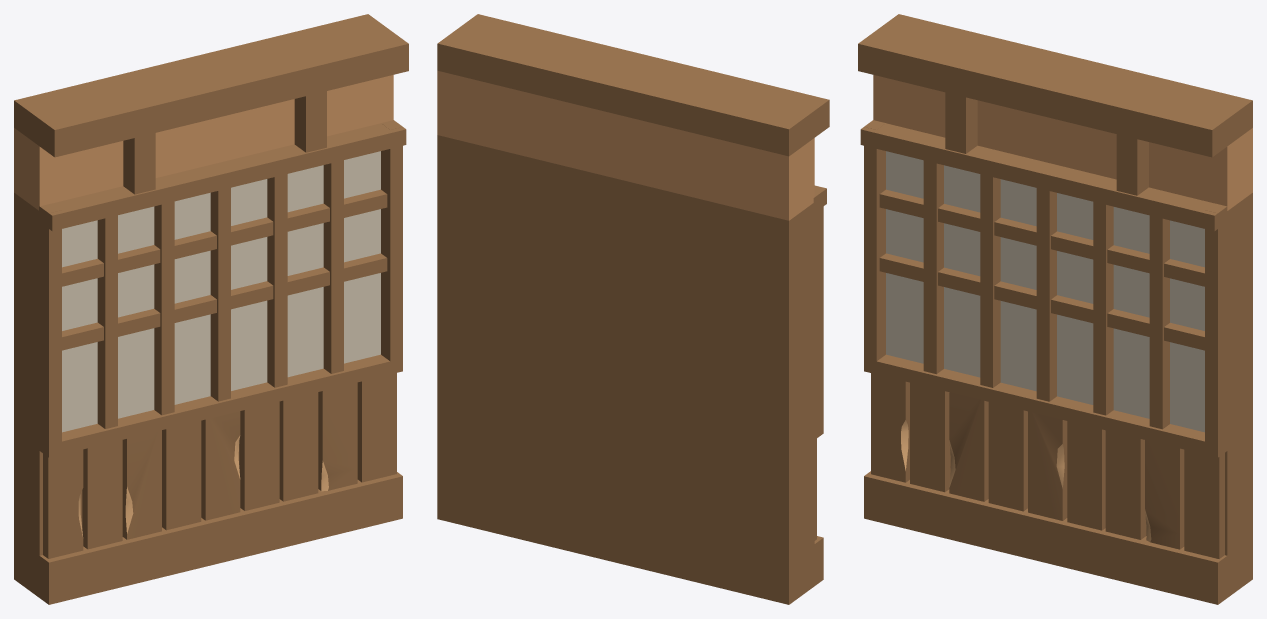
File: wall_shoji.glb
The picture shows the model from 3 angles, left to right: view 1: azimuth 30°, elevation 25°; view 2: azimuth 150°, elevation 25°; view 3: azimuth 330°, elevation 25°; orthographic projection.
Visible parts, largest first — view 1: Wall_Shoji; view 2: Wall_Shoji; view 3: Wall_Shoji.
Boxes of the visible parts, bbox=[...] form: Wall_Shoji: bbox=[14, 14, 408, 604]; Wall_Shoji: bbox=[437, 14, 829, 604]; Wall_Shoji: bbox=[858, 14, 1252, 604].
Size of the model in its own units: 4 by 5.17 by 0.7953.
2 materials, 1 textured.
